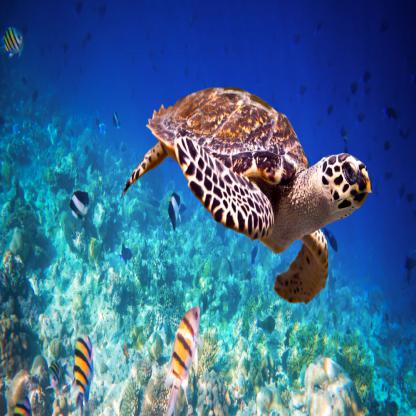turtle: (319, 143, 373, 228)
